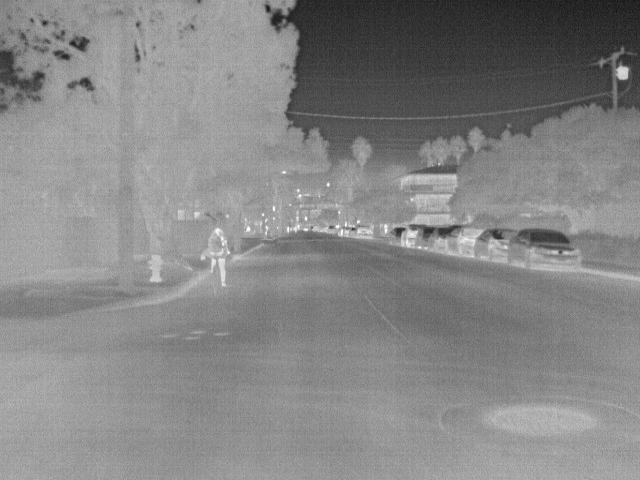car: (504, 229, 583, 271), (475, 229, 514, 259), (448, 227, 486, 254), (430, 227, 459, 251), (400, 225, 427, 250), (417, 227, 440, 250), (391, 227, 411, 243), (355, 225, 374, 240), (340, 225, 354, 237), (347, 227, 360, 238)
person: (205, 226, 232, 287)
